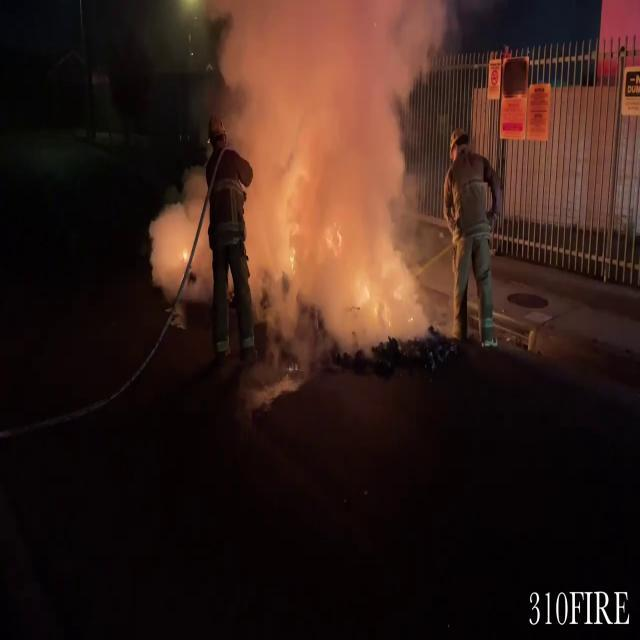Smoke: (203, 1, 443, 338)
